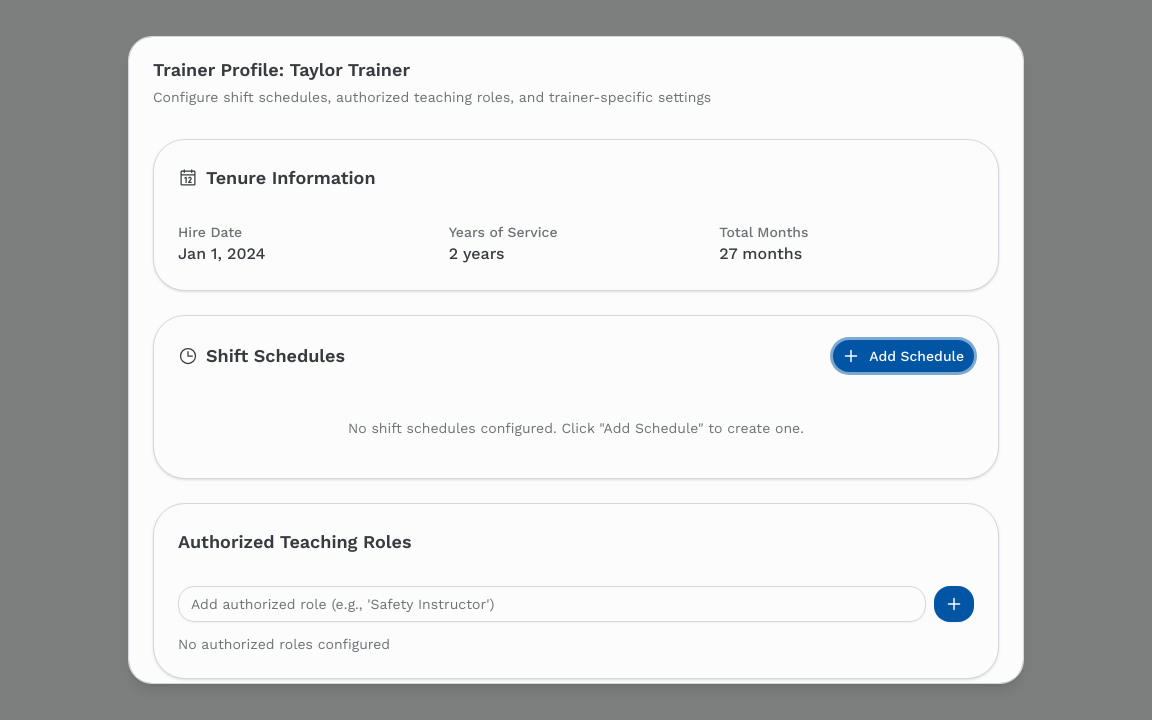
Test: TrainerProfileDialog › recalculates weekly hours for overnight schedule updates
The image size is (1152, 720).
Click the button "Add Schedule" at (904, 356), box [833,340,974,372]
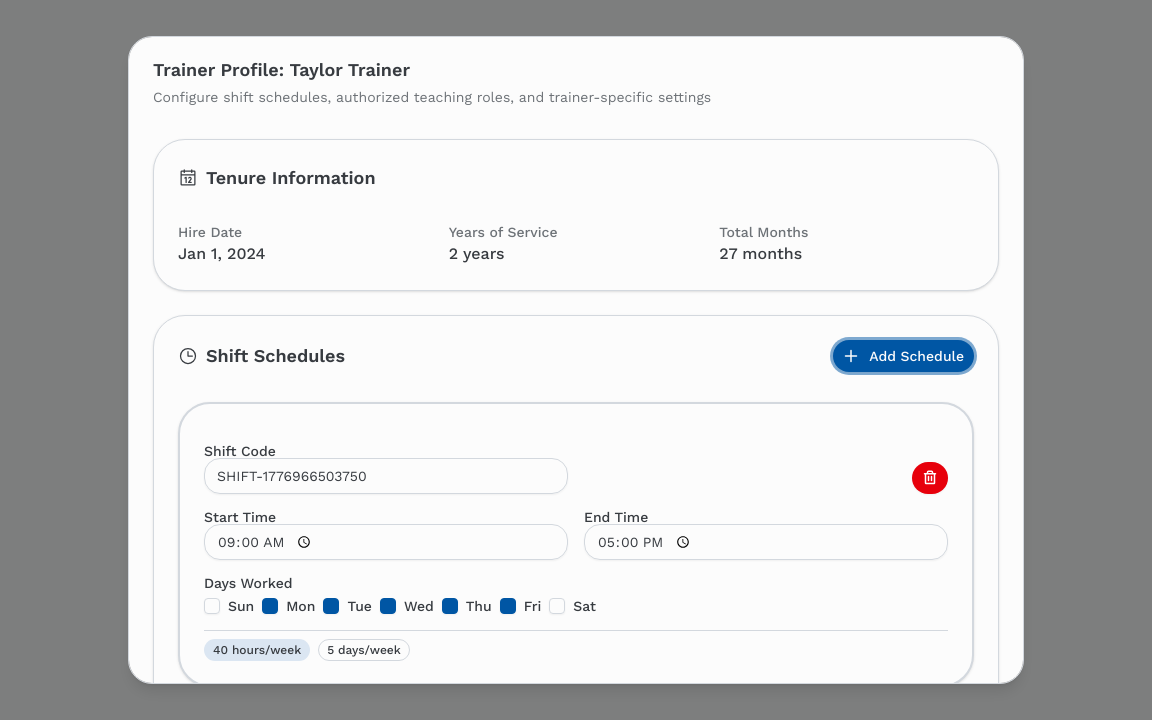
expect the time field named "schedule 1 start time" is shown: met
expect the time field named "schedule 1 end time" is shown: met, box [584,524,948,560]
Replace the text in the time field named "schedule 1 start time" with "22:00" at (386, 542), box [204,524,568,560]
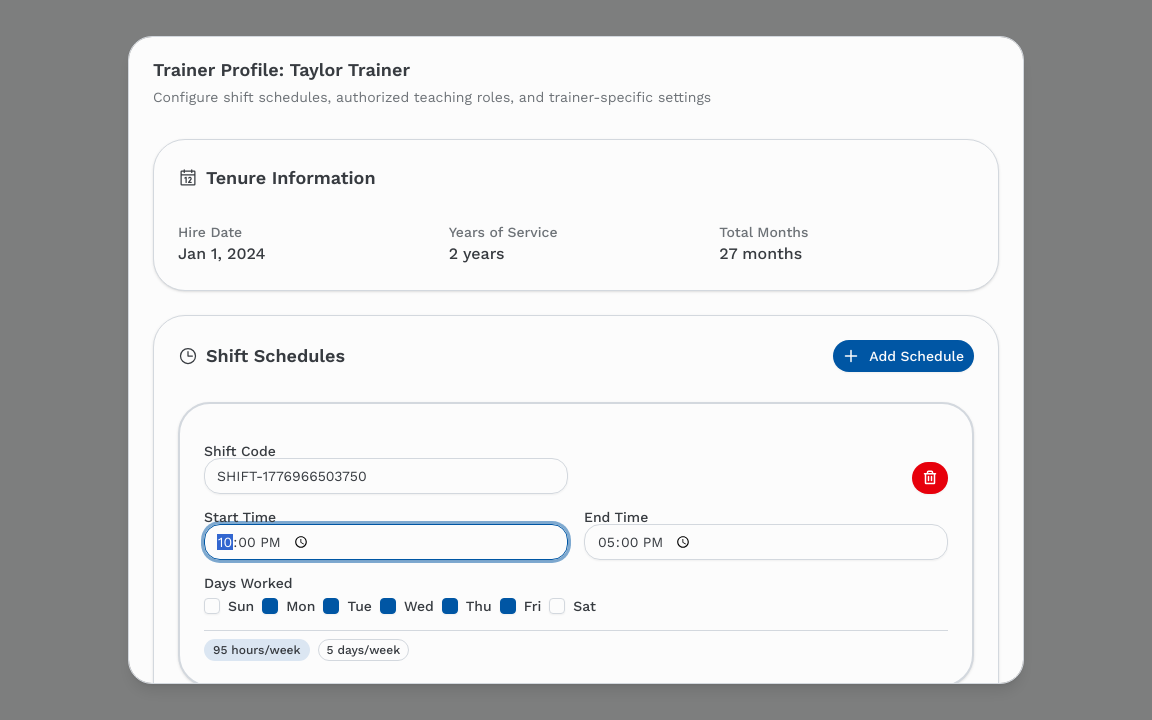
Replace the text in the time field named "schedule 1 end time" with "02:00" at (766, 542), box [584,524,948,560]
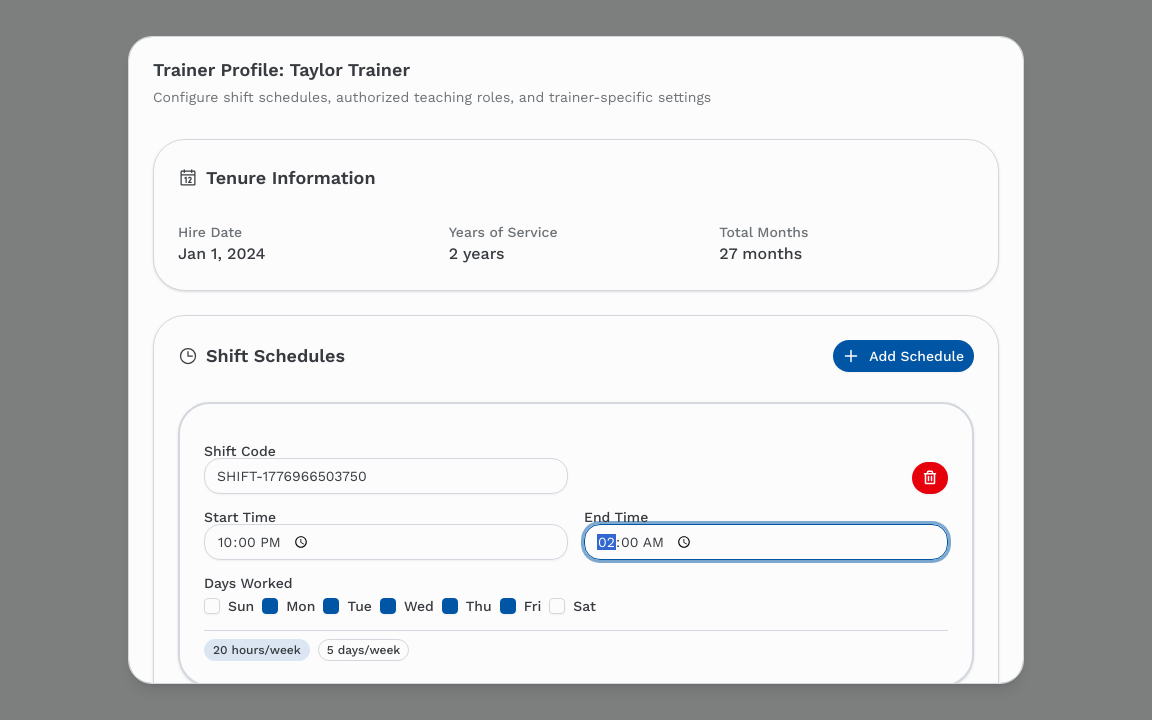
expect the text "20 hours/week" is shown: met, box [204,639,310,661]
